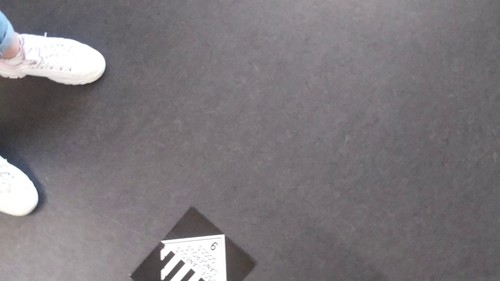misgoods: (152, 233, 233, 281)
